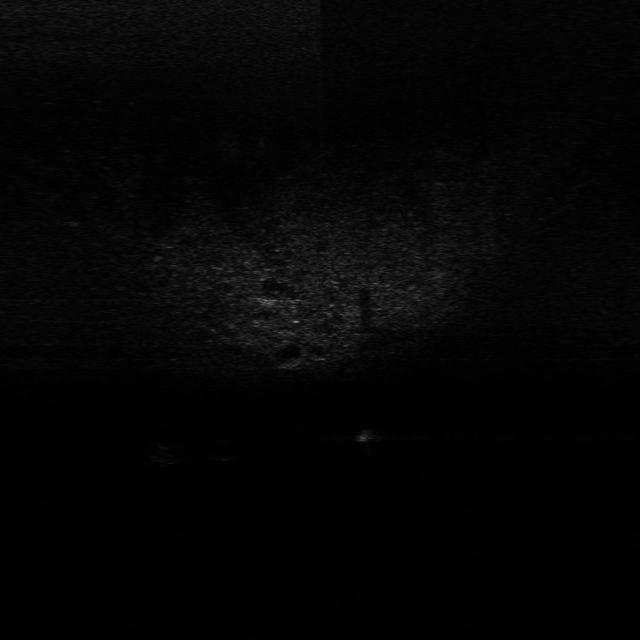ball: (202, 435, 239, 463)
circle cage: (139, 437, 182, 471)
cylinder: (358, 426, 377, 463)
